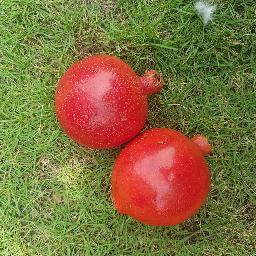Good_pomegranate: (108, 121, 211, 228), (53, 56, 170, 148)
